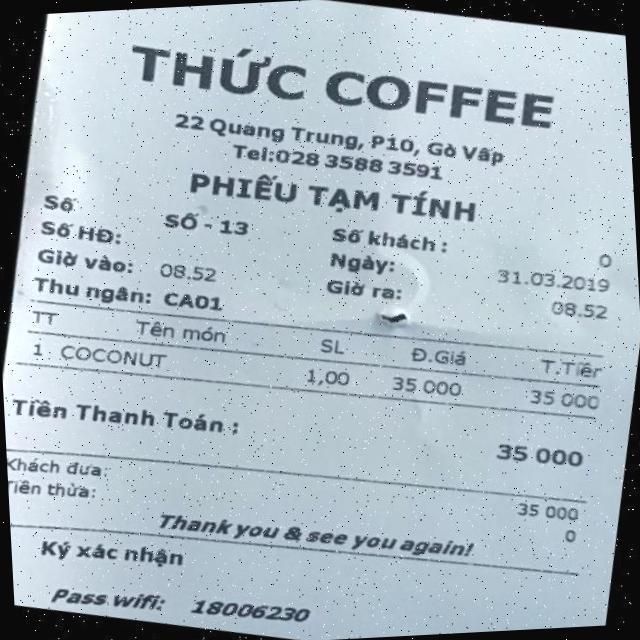Date: (478, 251, 616, 304)
Store_Name: (114, 3, 573, 160)
amount_number: (483, 424, 594, 482)
label_total: (3, 374, 239, 456)
